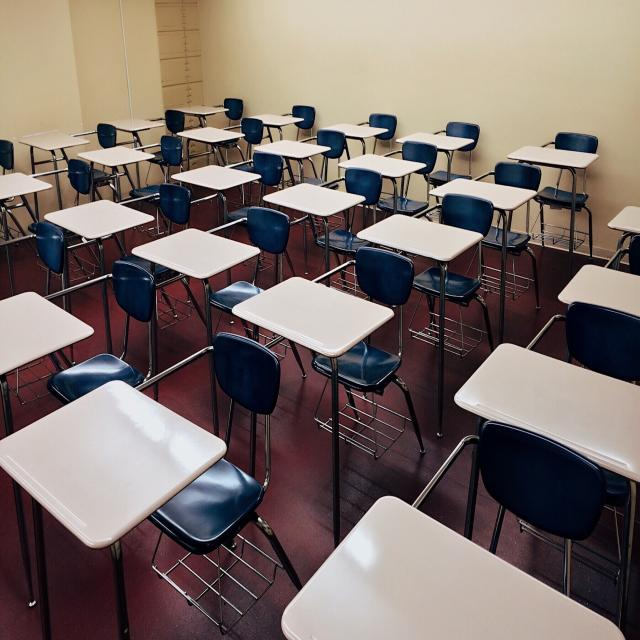chair: (174, 351, 307, 607), (60, 244, 155, 444), (324, 239, 418, 437), (405, 192, 498, 344), (212, 194, 290, 351), (478, 150, 550, 304), (540, 108, 606, 243), (317, 154, 383, 274), (386, 136, 448, 256), (22, 214, 83, 333), (38, 151, 102, 243), (425, 112, 485, 208), (348, 109, 409, 202), (138, 179, 210, 257), (234, 128, 287, 232), (301, 120, 353, 214)
table: (294, 477, 619, 640), (0, 368, 230, 573), (440, 314, 640, 519), (232, 264, 394, 384), (1, 294, 103, 407), (42, 195, 168, 284), (358, 197, 478, 285), (148, 211, 260, 305), (508, 115, 613, 211), (438, 157, 552, 242), (558, 226, 640, 334), (343, 139, 446, 211), (263, 168, 363, 239), (406, 118, 482, 188), (184, 146, 263, 210), (248, 125, 330, 185), (84, 143, 170, 193), (330, 111, 395, 163), (168, 89, 235, 139), (250, 98, 311, 148), (106, 110, 178, 152), (182, 112, 246, 158), (24, 114, 84, 163)
